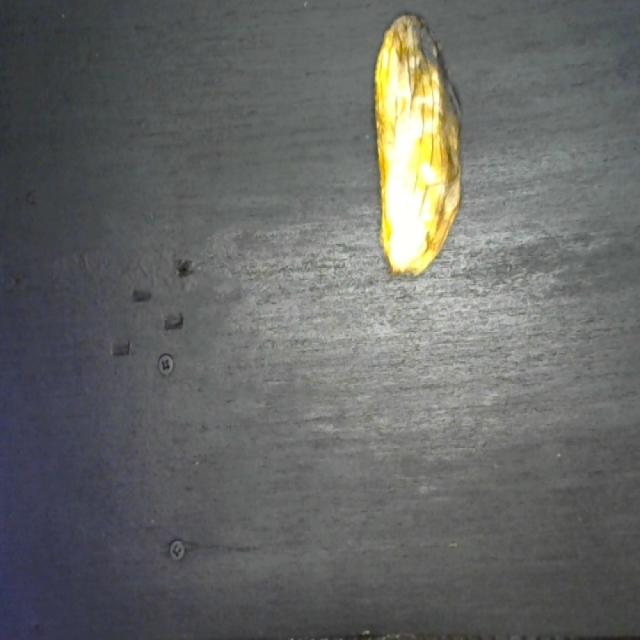biodegradable: (372, 4, 464, 285)
